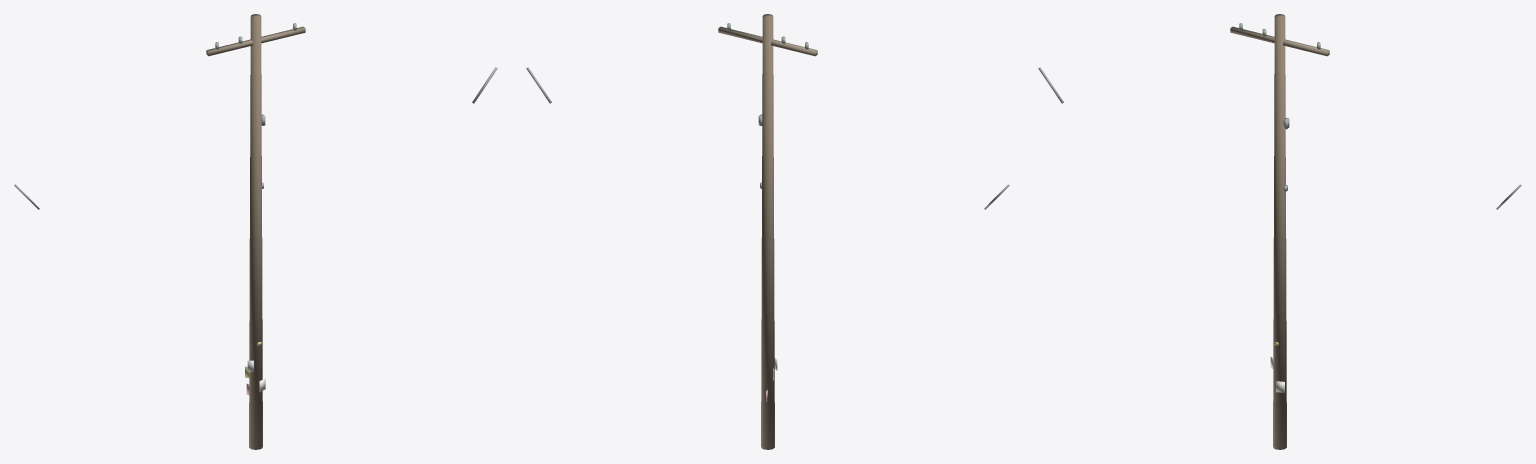
The model's file is util_pole_f.glb.
3 renders of one model, left to right at view 1: azimuth 30°, elevation 25°; view 2: azimuth 150°, elevation 25°; view 3: azimuth 330°, elevation 25°, orthographic.
Parts seen in each view (by area): view 1: util_pole_f; view 2: util_pole_f; view 3: util_pole_f.
Boxes of the visible parts, <box> form: util_pole_f: <box>14,14,497,449</box>; util_pole_f: <box>526,14,1009,449</box>; util_pole_f: <box>1038,14,1521,449</box>.
Size of the model in its own units: 12.43 by 10.6 by 0.4085.
